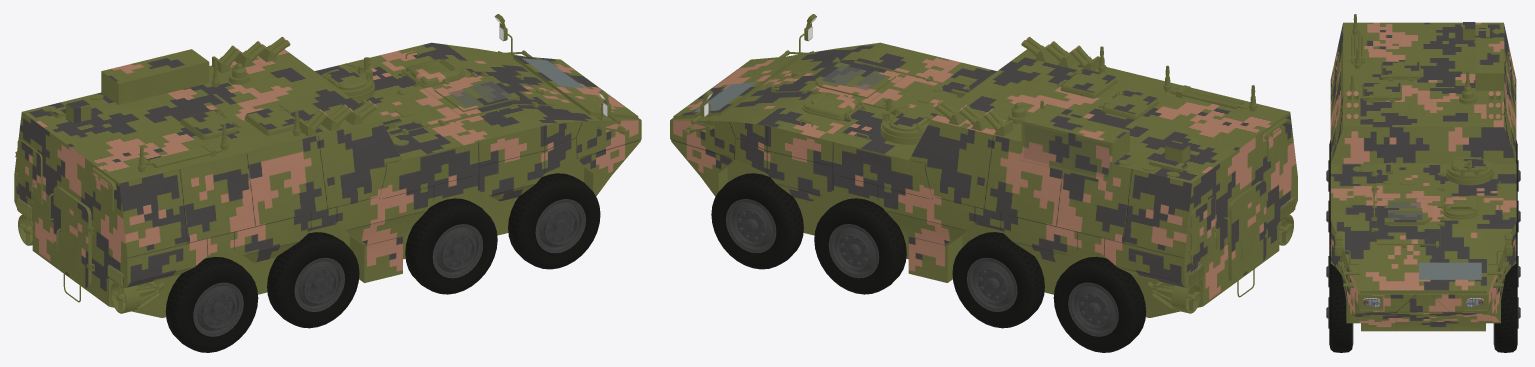
The picture shows the model from 3 angles, left to right: view 1: azimuth 30°, elevation 25°; view 2: azimuth 150°, elevation 25°; view 3: azimuth 270°, elevation 25°; orthographic projection. The views are drawn at different scales.
Visible parts, largest first — view 1: GXG232; view 2: GXG232; view 3: GXG232.
Part boxes in pixels (x1,y1,x2,y2): GXG232: (14, 14, 641, 352); GXG232: (670, 14, 1297, 352); GXG232: (1326, 14, 1520, 352).
Bounding box in the file's own units: 7.91 × 2.96 × 3.01.
Materials: 1 (1 with a texture image).
